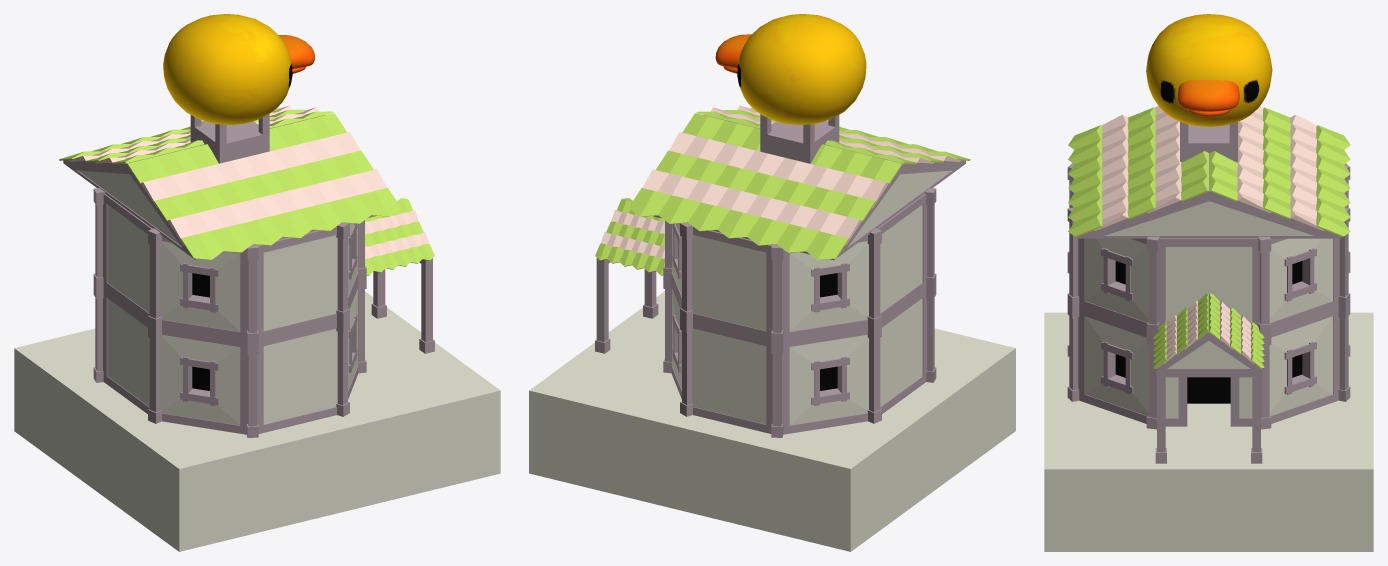
Rendered from guild.glb.
3 views of the same model, side by side, from view 1: azimuth 30°, elevation 25°; view 2: azimuth 150°, elevation 25°; view 3: azimuth 270°, elevation 25° (orthographic).
Visible parts, largest first — view 1: Floor.002, Roof.002-col, MuncherHead-col, WindowWall.002, WindowWall.001, Wall.002, Wall.003, Pillars-col, Pillars.002-col, WallDouble.001, WallDouble, Roof.001-col (+2 smaller); view 2: Floor.002, Roof.002-col, MuncherHead-col, WindowWall.002, WindowWall.001, Wall.002, Wall.003, Pillars-col, Pillars.002-col, WallDouble.001, WallDouble, Roof.001-col (+2 smaller); view 3: Floor.002, Roof.002-col, WindowWall.002, MuncherHead-col, WindowWall.001, WallDouble.001, Roof.001-col, Pillars.002-col, Pillars-col, DoorWall.001, Pillars.001-col, Cube.002-col (+1 smaller).
Boxes of the visible parts, x1=… form: Floor.002: x1=14, y1=291, x2=500, y2=551; Roof.002-col: x1=59, y1=105, x2=400, y2=259; MuncherHead-col: x1=163, y1=14, x2=314, y2=124; WindowWall.002: x1=161, y1=280, x2=358, y2=434; WindowWall.001: x1=161, y1=223, x2=358, y2=340; Wall.002: x1=257, y1=320, x2=337, y2=433; Wall.003: x1=257, y1=226, x2=337, y2=340; Pillars-col: x1=93, y1=279, x2=366, y2=437; Pillars.002-col: x1=93, y1=188, x2=366, y2=344; WallDouble.001: x1=103, y1=194, x2=152, y2=320; WallDouble: x1=103, y1=289, x2=149, y2=413; Roof.001-col: x1=365, y1=198, x2=434, y2=275; Floor.002: x1=529, y1=291, x2=1015, y2=551; Roof.002-col: x1=628, y1=105, x2=970, y2=259; MuncherHead-col: x1=715, y1=14, x2=866, y2=124; WindowWall.002: x1=671, y1=279, x2=868, y2=434; WindowWall.001: x1=671, y1=223, x2=868, y2=339; Wall.002: x1=692, y1=321, x2=772, y2=433; Wall.003: x1=692, y1=226, x2=772, y2=339; Pillars-col: x1=663, y1=276, x2=936, y2=437; Pillars.002-col: x1=663, y1=144, x2=936, y2=343; WallDouble.001: x1=877, y1=193, x2=926, y2=320; WallDouble: x1=880, y1=289, x2=926, y2=413; Roof.001-col: x1=595, y1=198, x2=664, y2=275; Floor.002: x1=1044, y1=312, x2=1373, y2=551; Roof.002-col: x1=1068, y1=106, x2=1350, y2=236; WindowWall.002: x1=1078, y1=306, x2=1339, y2=423; MuncherHead-col: x1=1146, y1=14, x2=1272, y2=126; WindowWall.001: x1=1078, y1=238, x2=1339, y2=329; WallDouble.001: x1=1158, y1=238, x2=1259, y2=326; Roof.001-col: x1=1153, y1=293, x2=1264, y2=368; Pillars.002-col: x1=1067, y1=163, x2=1350, y2=335; Pillars-col: x1=1067, y1=260, x2=1350, y2=429; DoorWall.001: x1=1165, y1=377, x2=1252, y2=426; Pillars.001-col: x1=1155, y1=368, x2=1262, y2=463; Cube.002-col: x1=1180, y1=121, x2=1237, y2=162.
Bounding box in the file's own units: 85.43 × 111 × 75.96.
6 materials, 1 textured.
